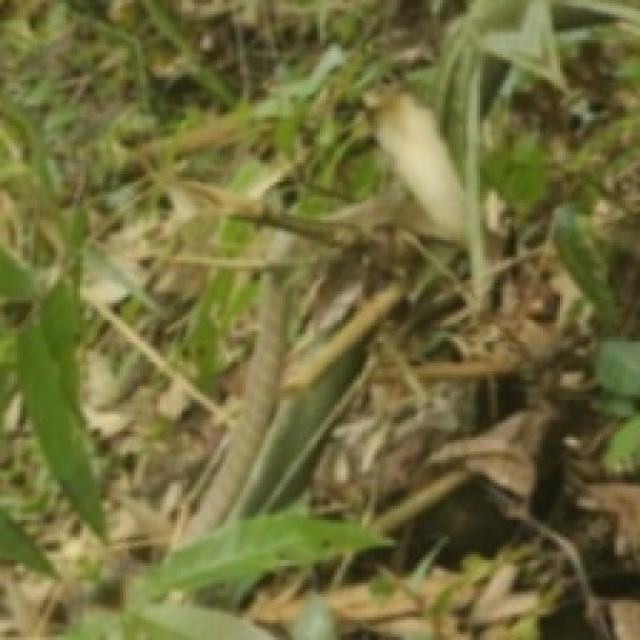king cobra: (189, 91, 464, 537)
